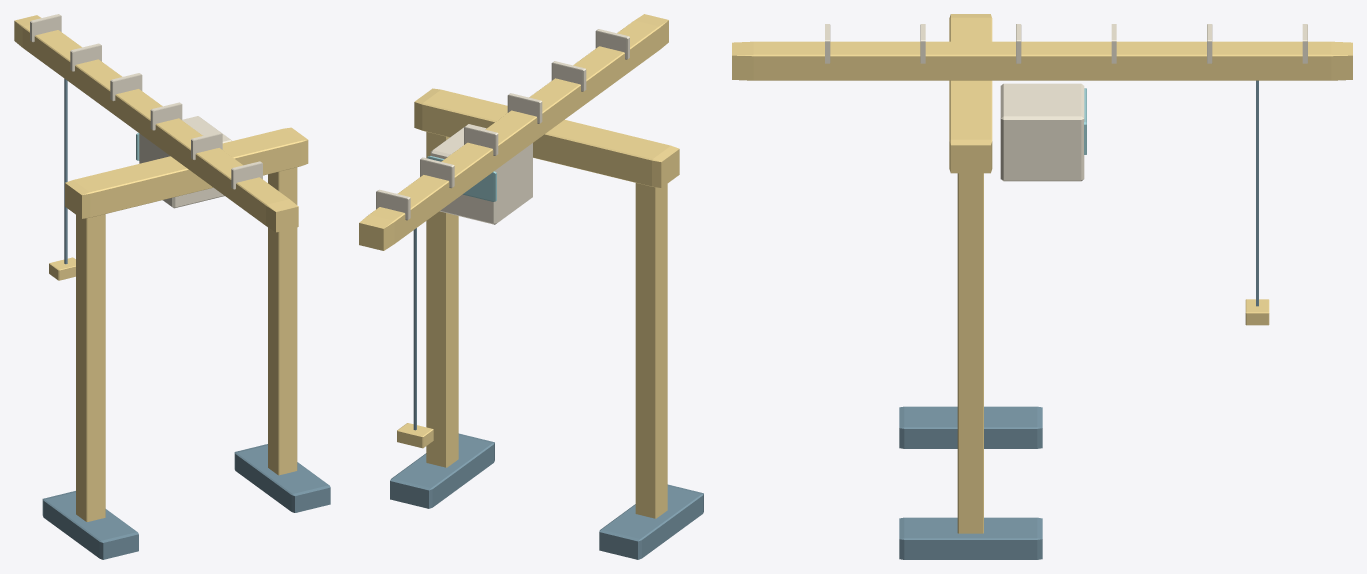
3 renders of one model, left to right at view 1: azimuth 30°, elevation 25°; view 2: azimuth 150°, elevation 25°; view 3: azimuth 270°, elevation 25°, orthographic. The views are drawn at different scales.
Parts seen in each view (by area): view 1: boom, leg0, leg1, crossbeam, foot1, foot0, cab, rope, beam_tie2, beam_tie3, beam_tie1, beam_tie0 (+3 smaller); view 2: boom, leg0, crossbeam, leg1, foot0, foot1, cab, rope, hook, beam_tie4, beam_tie3, beam_tie0 (+4 smaller); view 3: boom, leg1, cab, foot1, crossbeam, foot0.
Boxes of the visible parts, x1,y1,x2,y2 form: boom: [14, 15, 298, 232]; leg0: [76, 214, 105, 521]; leg1: [268, 167, 297, 475]; crossbeam: [65, 127, 308, 218]; foot1: [234, 444, 330, 512]; foot0: [42, 491, 138, 559]; cab: [139, 116, 231, 208]; rope: [64, 78, 67, 264]; beam_tie2: [110, 73, 142, 101]; beam_tie3: [150, 102, 182, 130]; beam_tie1: [70, 43, 101, 71]; beam_tie0: [30, 14, 61, 42]; boom: [359, 14, 668, 250]; leg0: [635, 183, 667, 518]; crossbeam: [414, 88, 679, 187]; leg1: [426, 132, 458, 467]; foot0: [599, 484, 703, 559]; foot1: [390, 433, 494, 508]; cab: [430, 124, 532, 224]; rope: [413, 228, 416, 430]; hook: [397, 423, 433, 448]; beam_tie4: [551, 61, 586, 91]; beam_tie3: [507, 93, 542, 123]; beam_tie0: [376, 189, 410, 220]; boom: [732, 41, 1352, 80]; leg1: [957, 173, 983, 533]; cab: [1000, 83, 1084, 181]; foot1: [899, 517, 1042, 559]; crossbeam: [949, 14, 992, 173]; foot0: [899, 406, 1042, 448].
Size of the model in its own units: 13.2 by 21.35 by 26.
